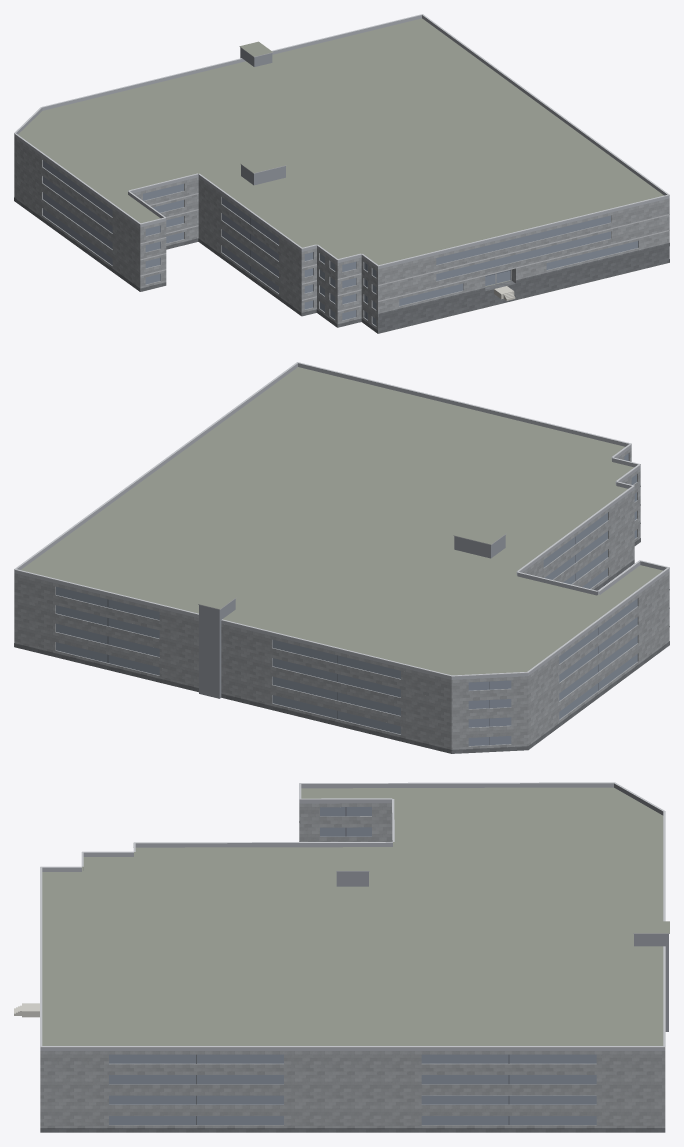
3 views of the same model, one above another, from view 1: azimuth 30°, elevation 25°; view 2: azimuth 150°, elevation 25°; view 3: azimuth 270°, elevation 25° (orthographic). The views are drawn at different scales.
Parts seen in each view (by area): view 1: b71__roof, b71__wall, b71__glass, b71__base, b71__parapet, b71__trim, b71__wall2; view 2: b71__roof, b71__wall, b71__glass, b71__parapet, b71__trim, b71__base, b71__wall2; view 3: b71__roof, b71__wall, b71__glass, b71__parapet, b71__trim, b71__base, b71__wall2.
Boxes of the visible parts, <box> form: b71__roof: <box>18,18,663,329</box>; b71__wall: <box>14,137,669,329</box>; b71__glass: <box>43,160,638,325</box>; b71__base: <box>14,197,669,333</box>; b71__parapet: <box>14,15,669,269</box>; b71__trim: <box>14,14,669,311</box>; b71__wall2: <box>240,47,285,185</box>; b71__roof: <box>21,367,662,675</box>; b71__wall: <box>14,448,669,749</box>; b71__glass: <box>56,453,637,745</box>; b71__parapet: <box>14,363,669,679</box>; b71__trim: <box>14,362,669,676</box>; b71__base: <box>14,538,669,753</box>; b71__wall2: <box>199,535,505,698</box>; b71__roof: <box>42,787,669,1045</box>; b71__wall: <box>40,803,665,1127</box>; b71__glass: <box>109,807,596,1124</box>; b71__parapet: <box>40,783,665,1050</box>; b71__trim: <box>40,782,669,1047</box>; b71__base: <box>40,1128,665,1132</box>; b71__wall2: <box>336,871,668,1031</box>.
Size of the model in its own units: 100 by 17.57 by 105.
Materials: 10 (2 with a texture image).
